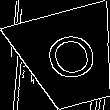O_S: (37, 28, 101, 89)
